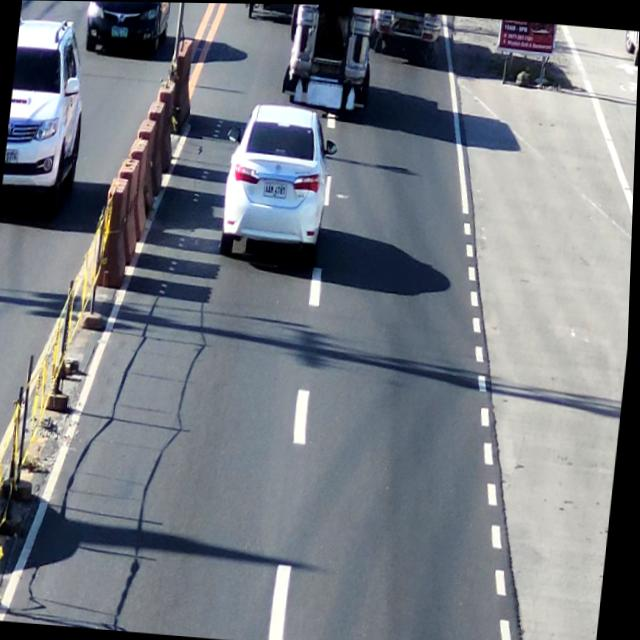Car: (214, 99, 341, 263)
Jeep: (283, 3, 378, 103), (374, 7, 444, 49)
License-Plate: (262, 175, 291, 200)
